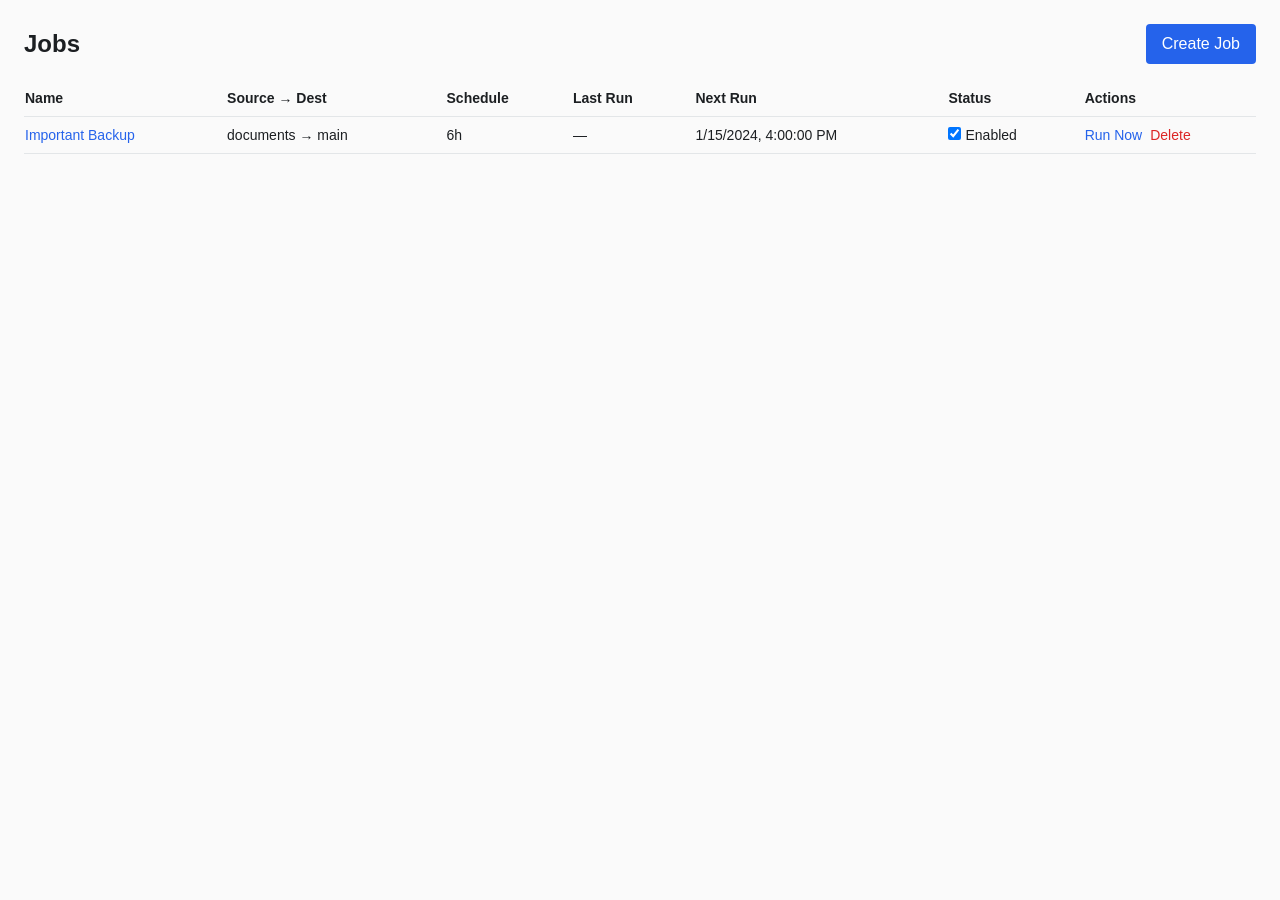
Jobs › delete confirmation dialog › shows job name in the delete confirmation dialog
The width and height of the screenshot is (1280, 900).
Expected: the link "Important Backup" is shown, left=25, top=127, right=135, bottom=143
Click the button "Delete" at (1170, 135), box left=1150, top=125, right=1191, bottom=145
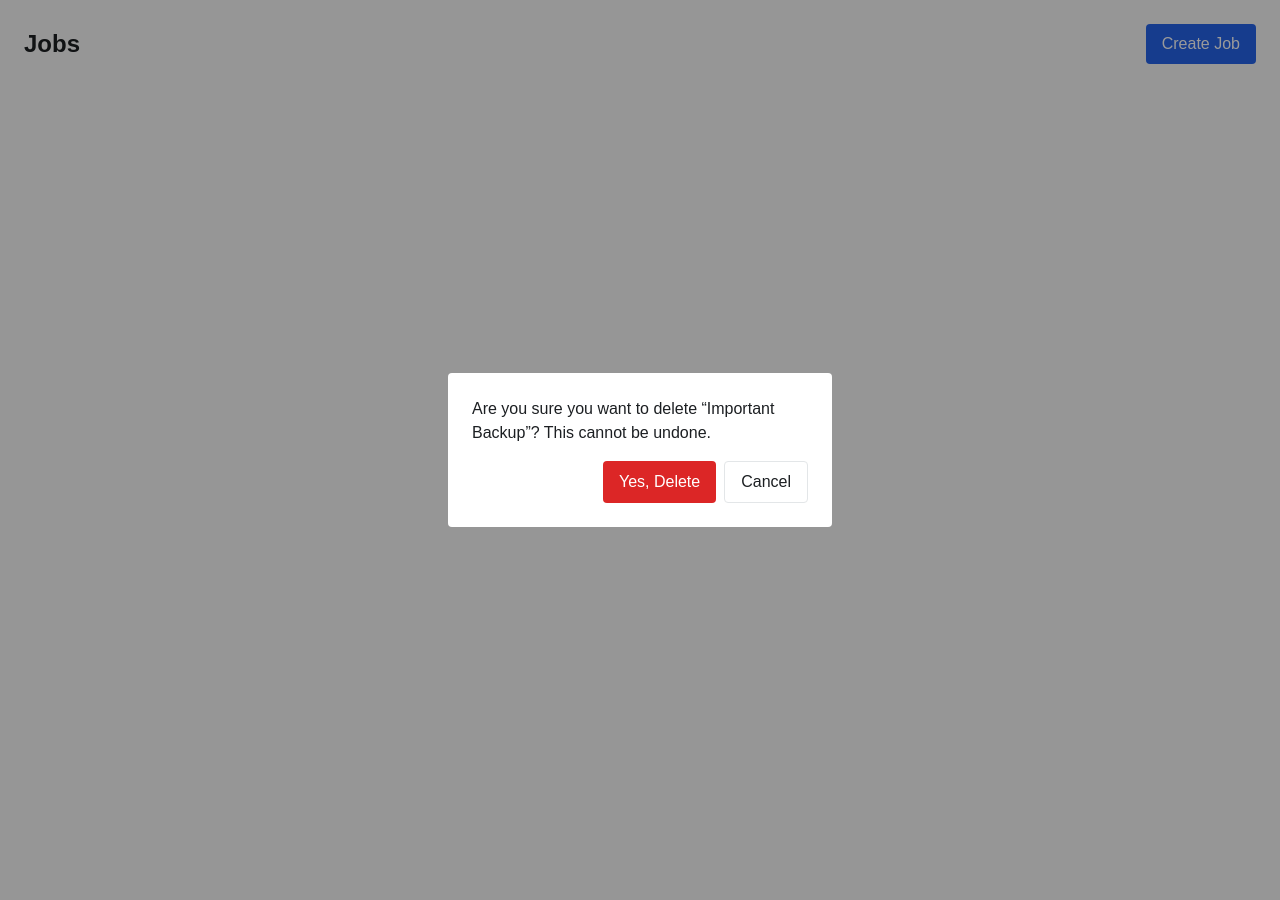
Result: the text "Important Backup" is shown at left=472, top=400, right=774, bottom=441
